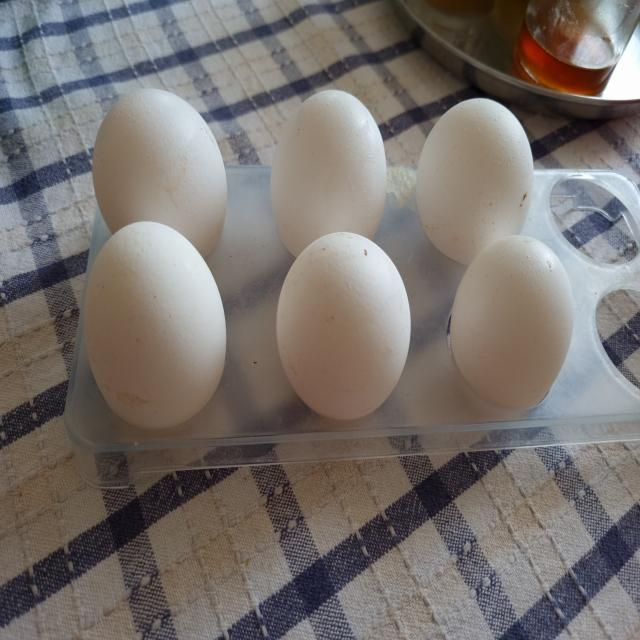Egg: (81, 220, 229, 435), (274, 229, 413, 425), (446, 234, 578, 422), (91, 89, 230, 262), (268, 89, 390, 260), (416, 99, 536, 269)
